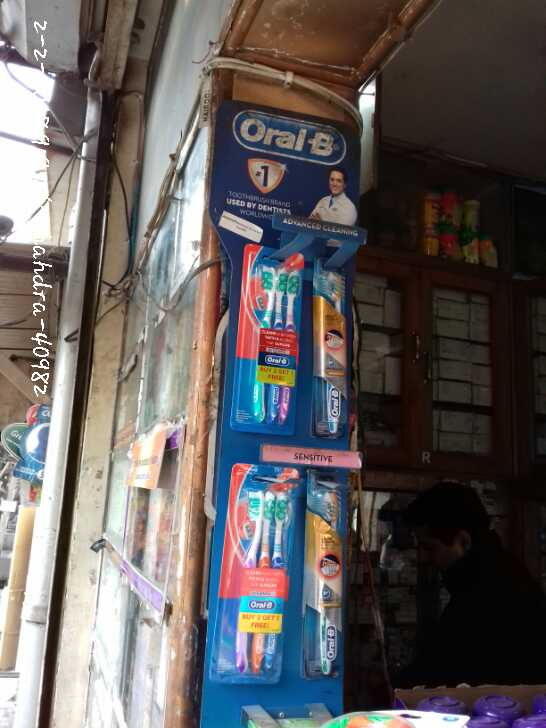oralb: (231, 482, 292, 679), (303, 490, 344, 672), (254, 269, 300, 424), (313, 269, 350, 437)
